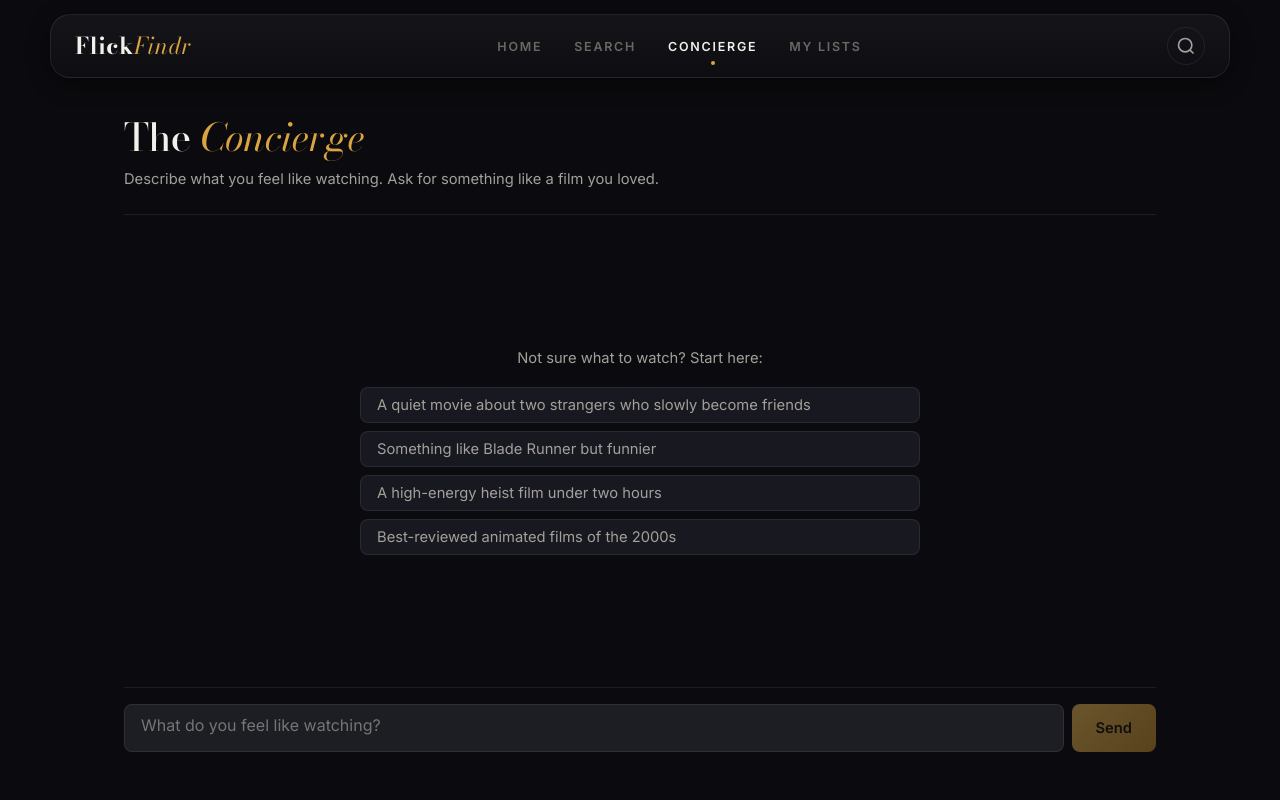
Test case: Concierge streaming › offers a way to start over once a transcript exists
The image size is (1280, 800).
Expected: the button "new chat" is not shown
In the text box named "Message the concierge": coordinates (594, 728) [124, 704, 1064, 752], type "hi"
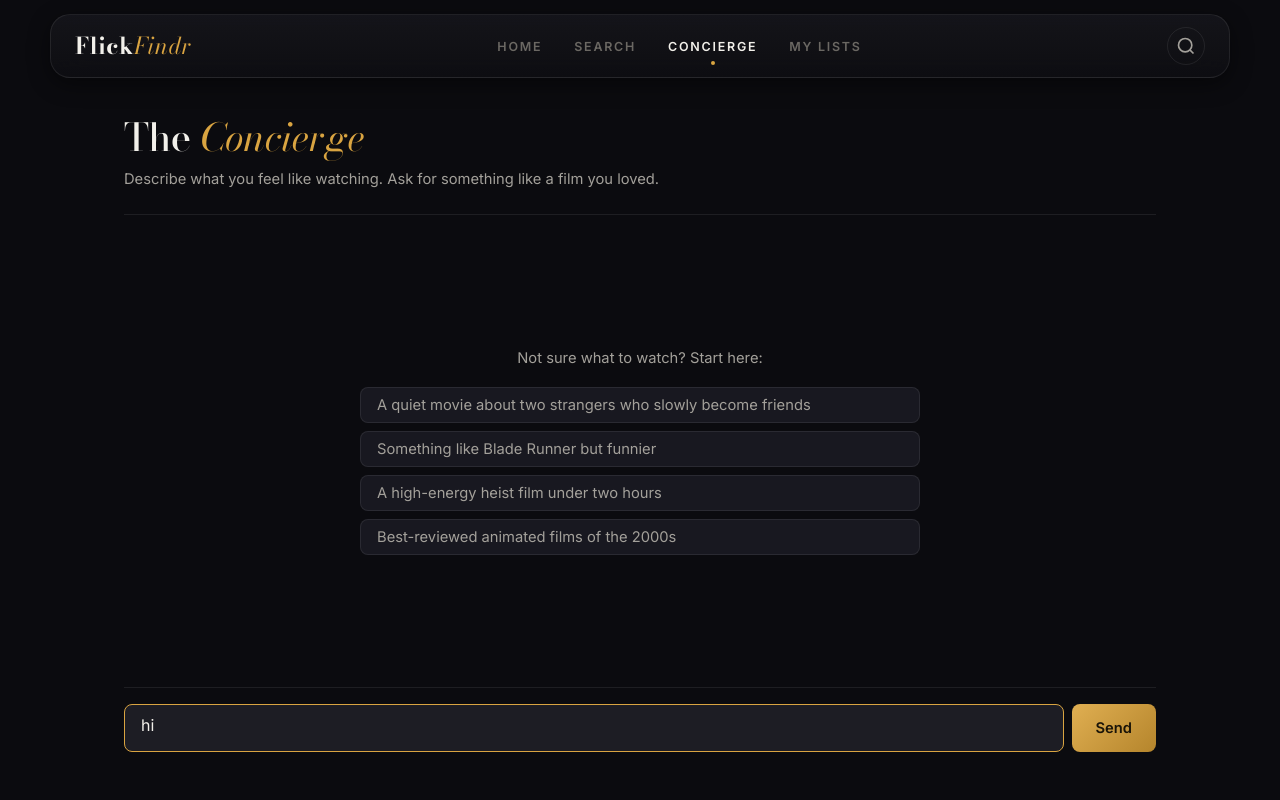
Click the button "Send": coordinates (1114, 728) [1072, 704, 1156, 752]
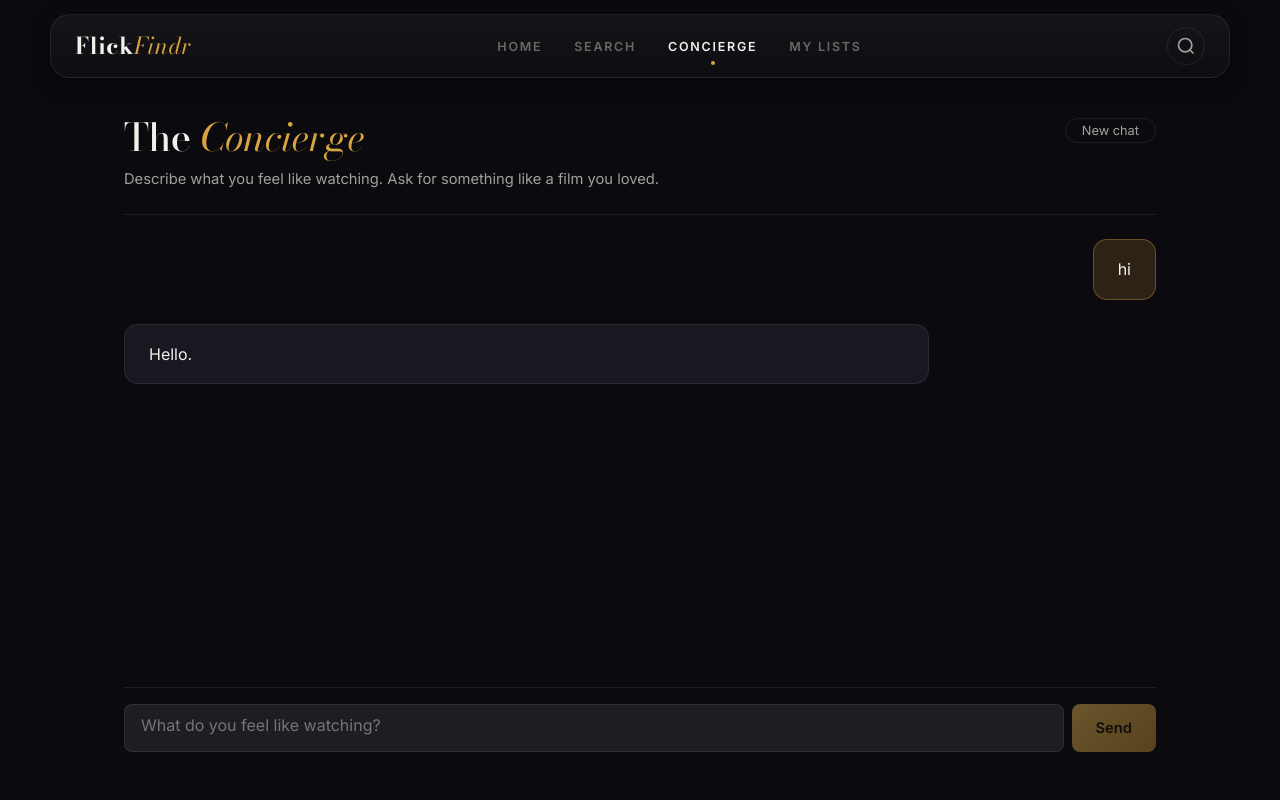
Click the button "New chat": coordinates (1110, 130) [1065, 118, 1156, 143]
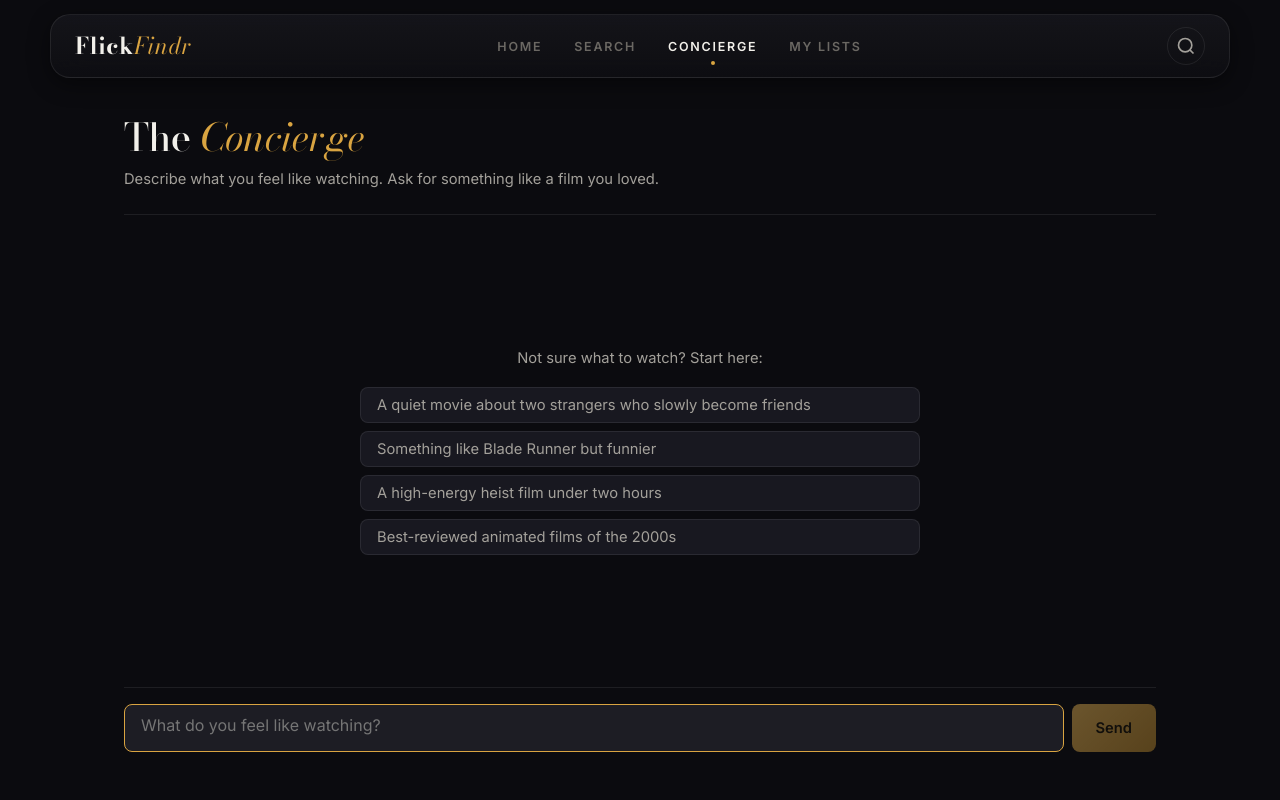
Expected: no elements with class "chat-bubble-assistant" are shown
Expected: the text "Hello." is gone
